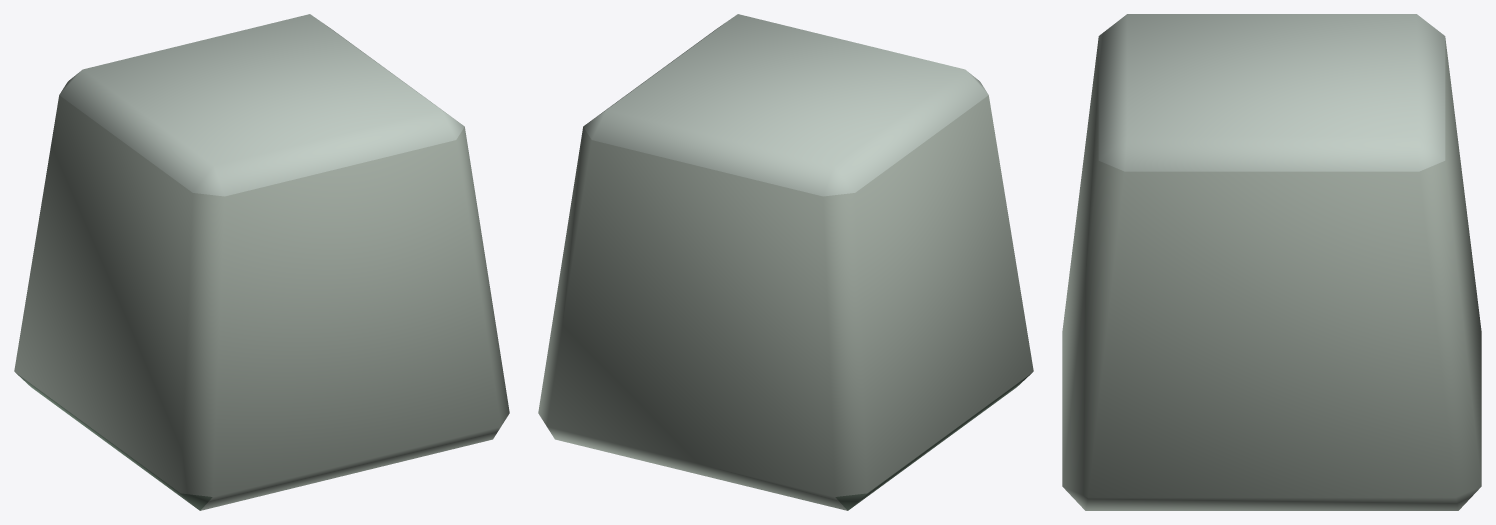
Rendered from formedRock-03_col.fbx.
3 views of the same model, side by side, from view 1: azimuth 30°, elevation 25°; view 2: azimuth 150°, elevation 25°; view 3: azimuth 270°, elevation 25° (orthographic). The views are drawn at different scales.
Visible parts, largest first — view 1: formedRock-03.col; view 2: formedRock-03.col; view 3: formedRock-03.col.
Boxes of the visible parts, x1,y1,x2,y2 form: formedRock-03.col: [14, 14, 509, 510]; formedRock-03.col: [538, 14, 1033, 510]; formedRock-03.col: [1062, 14, 1481, 510].
Size of the model in its own units: 0.0974 by 0.0915 by 0.0974.
Materials: 1 (1 with a texture image).
